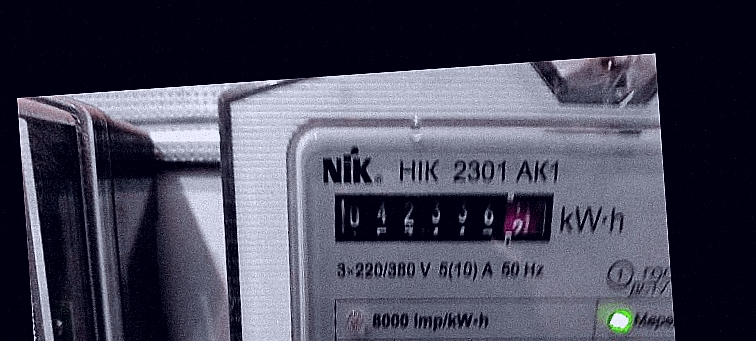0: (346, 199, 361, 229)
2: (398, 197, 418, 225)
3: (425, 195, 443, 225), (454, 194, 470, 223)
4: (372, 198, 390, 226)
6: (479, 198, 496, 226)
screen: (320, 168, 565, 265)
